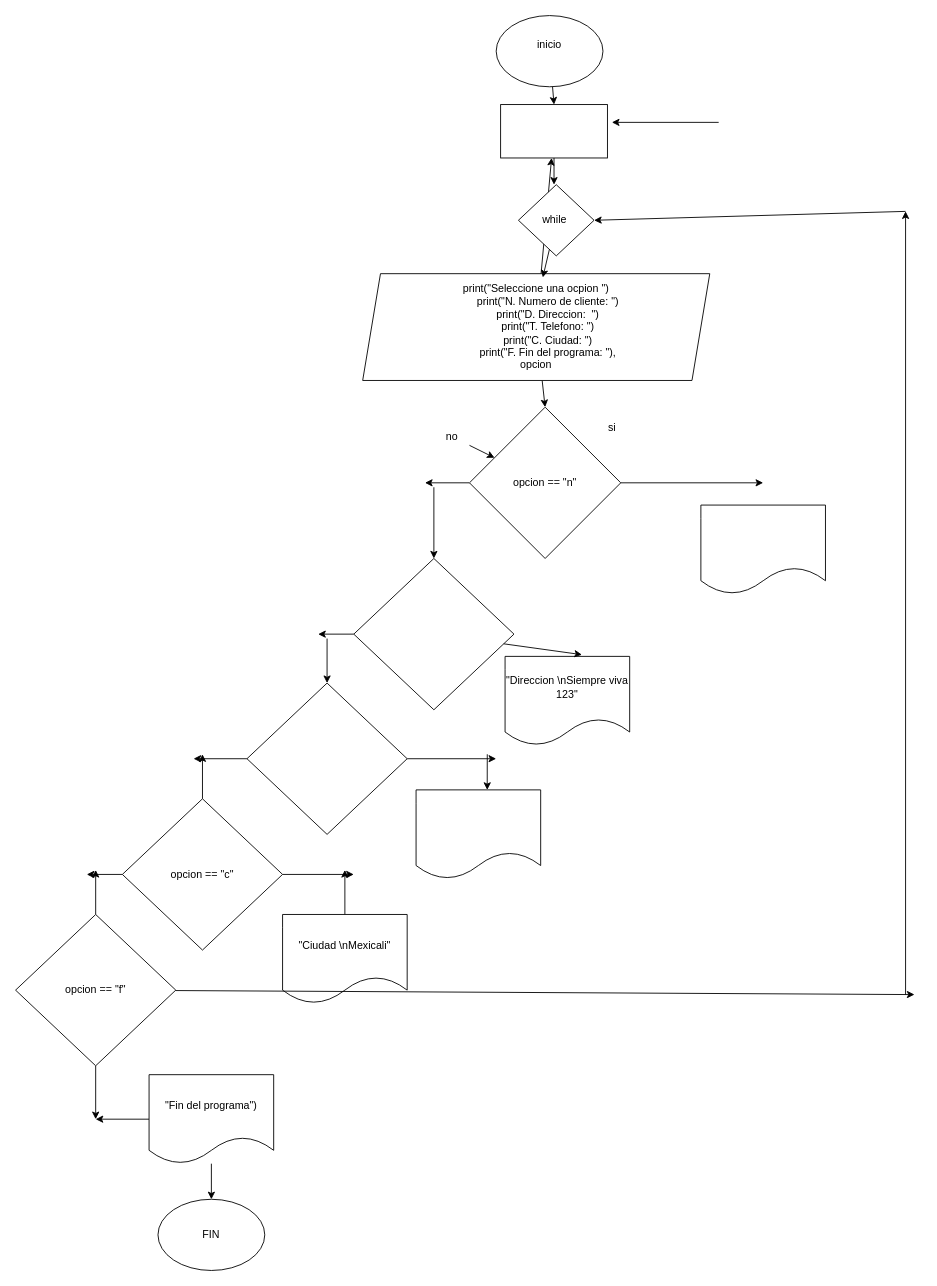
Image size: 937x1286. Some labels were removed from this diagram. The shapes that lost their labels are listed below. From the top down, each one's centre as x and y in pixels, then its label:
the point at 553,131: char opcion
the point at 762,549: ("Numero de cliente: \nFulanito Maguaino"
the point at 433,634: opcion == "d"
the point at 326,758: opcion == "t"
the point at 478,834: "Telefono \n6864839 "
